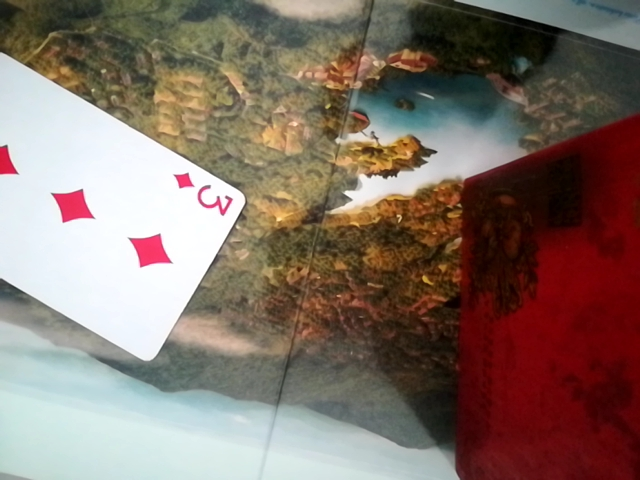fk 3: (0, 41, 246, 360)
